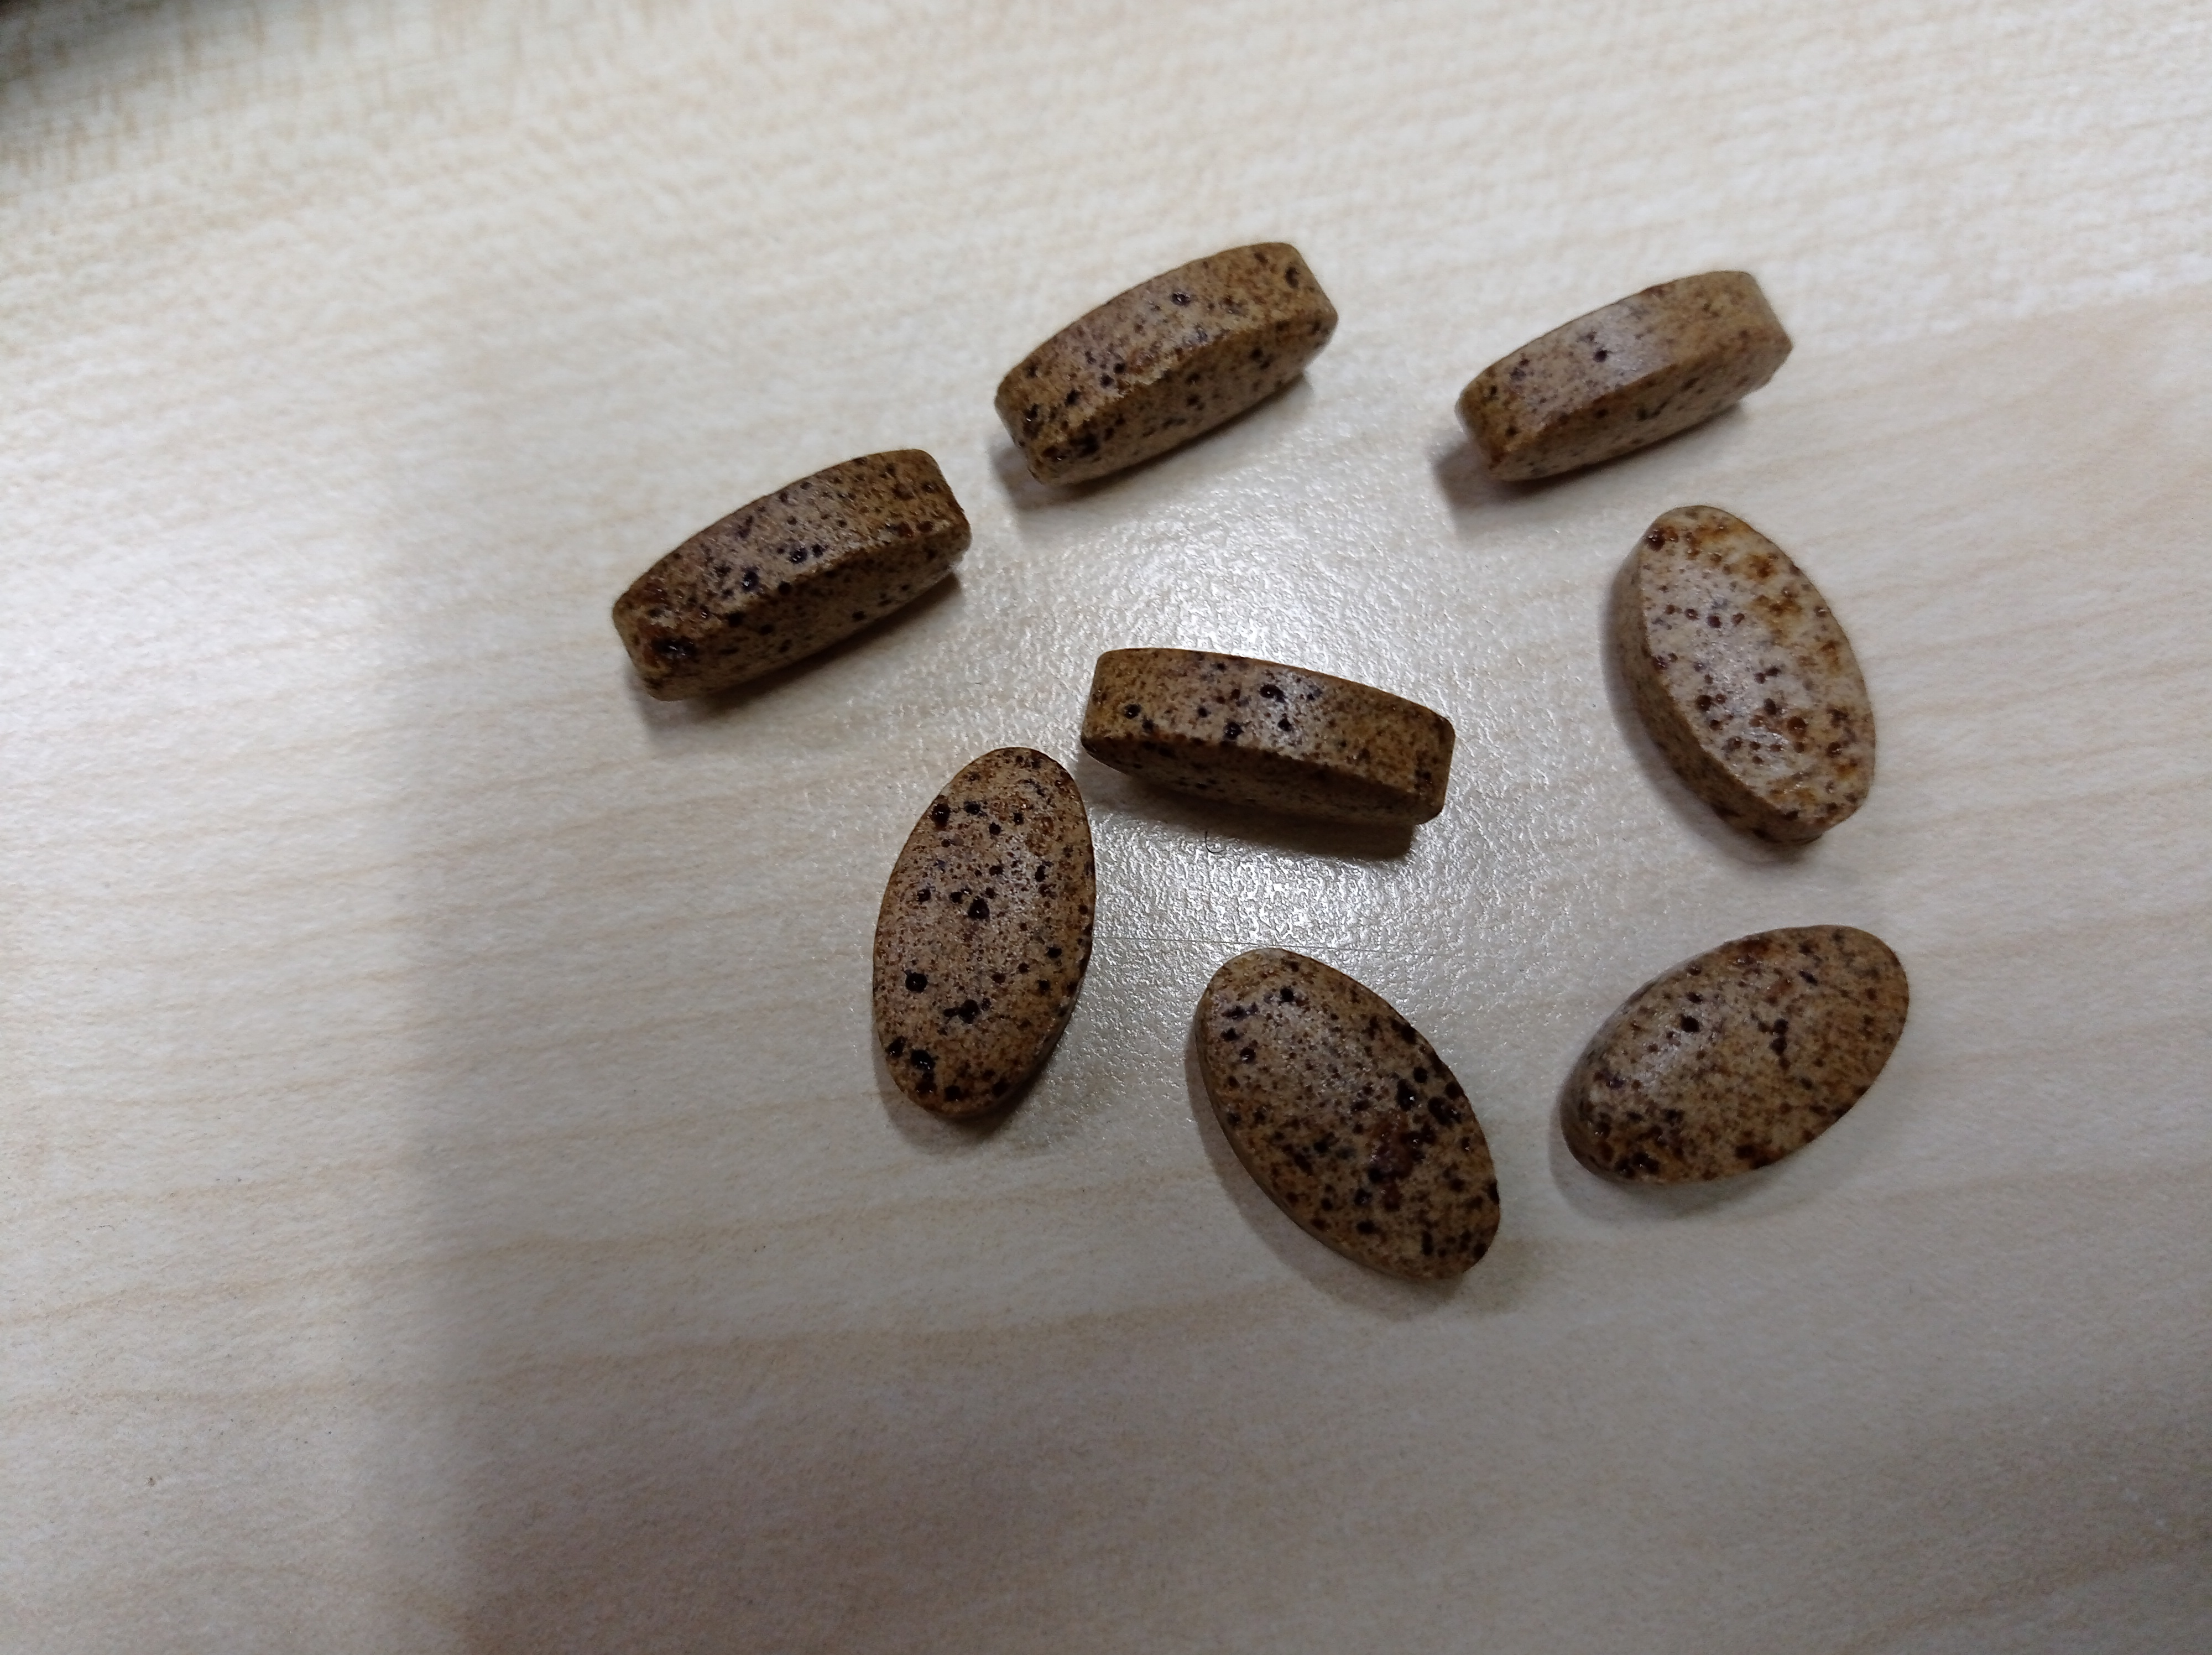brown_medicine: (1190, 947, 1507, 1286), (1562, 927, 1911, 1226), (613, 450, 975, 702), (1618, 506, 1880, 848), (990, 240, 1340, 490), (871, 751, 1098, 1133), (1083, 645, 1451, 848), (1454, 269, 1793, 485)
